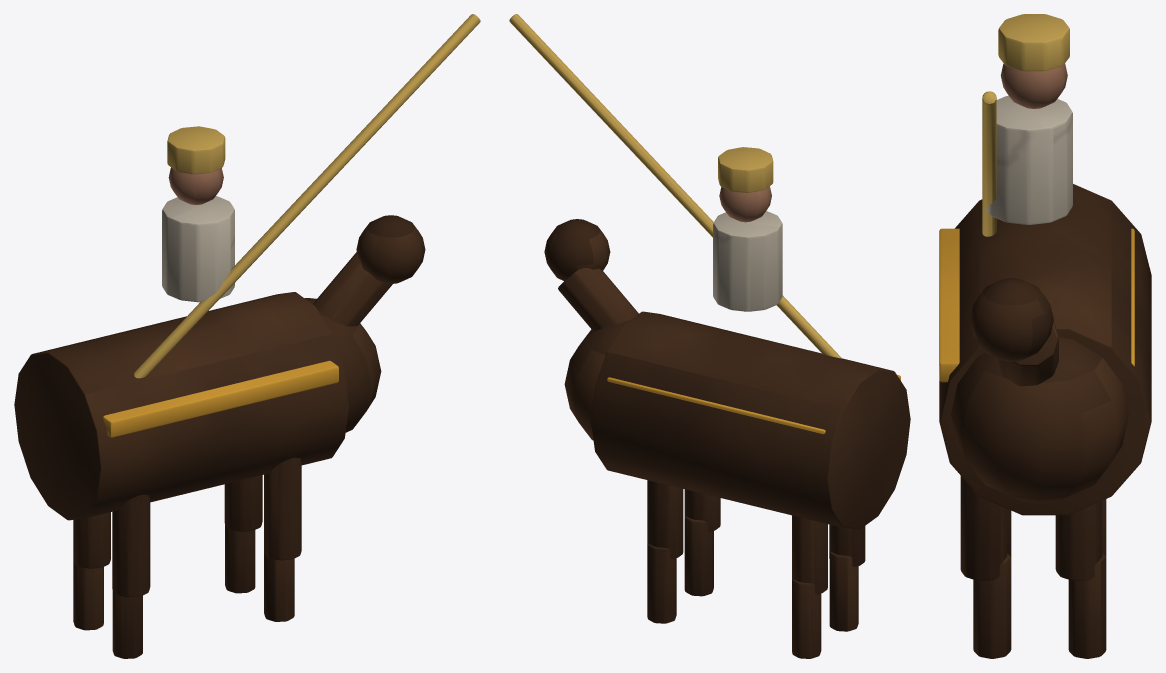
Rendered from unit_church_dawn_rider.fbx.
3 renders of one model, left to right at view 1: azimuth 30°, elevation 25°; view 2: azimuth 150°, elevation 25°; view 3: azimuth 270°, elevation 25°, orthographic. The views are drawn at different scales.
Visible parts, largest first — view 1: unit_church_dawn_rider; view 2: unit_church_dawn_rider; view 3: unit_church_dawn_rider.
Part boxes in pixels (box(x1,y1,x2,y2)): unit_church_dawn_rider: box(14, 14, 480, 658); unit_church_dawn_rider: box(509, 14, 910, 658); unit_church_dawn_rider: box(939, 14, 1151, 658).
Size of the model in its own units: 2 by 2.66 by 0.76.
